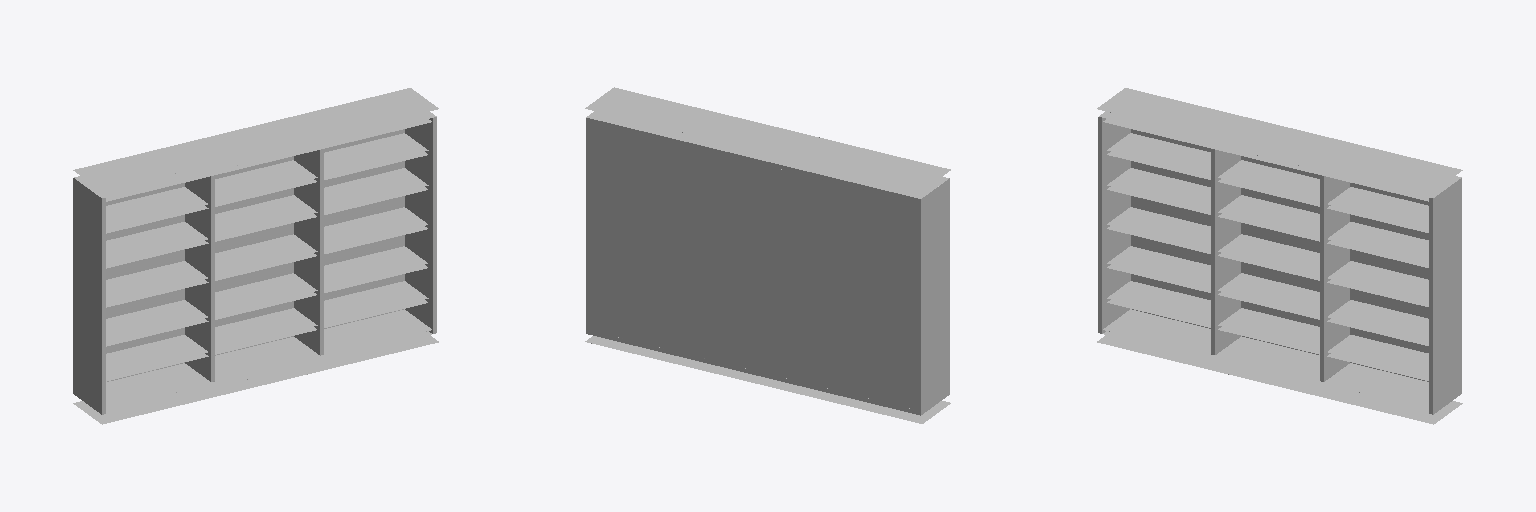
The model's file is shelf.obj.
The picture shows the model from 3 angles: view 1: azimuth 30°, elevation 25°; view 2: azimuth 150°, elevation 25°; view 3: azimuth 330°, elevation 25°; orthographic projection.
Parts seen in each view (by area): view 1: TEto001; view 2: TEto001; view 3: TEto001.
Part boxes in pixels (x1,y1,x2,y2): TEto001: (73, 88, 438, 424); TEto001: (585, 87, 950, 423); TEto001: (1097, 88, 1462, 424).
Size of the model in its own units: 4.08 by 2.69 by 0.6204.